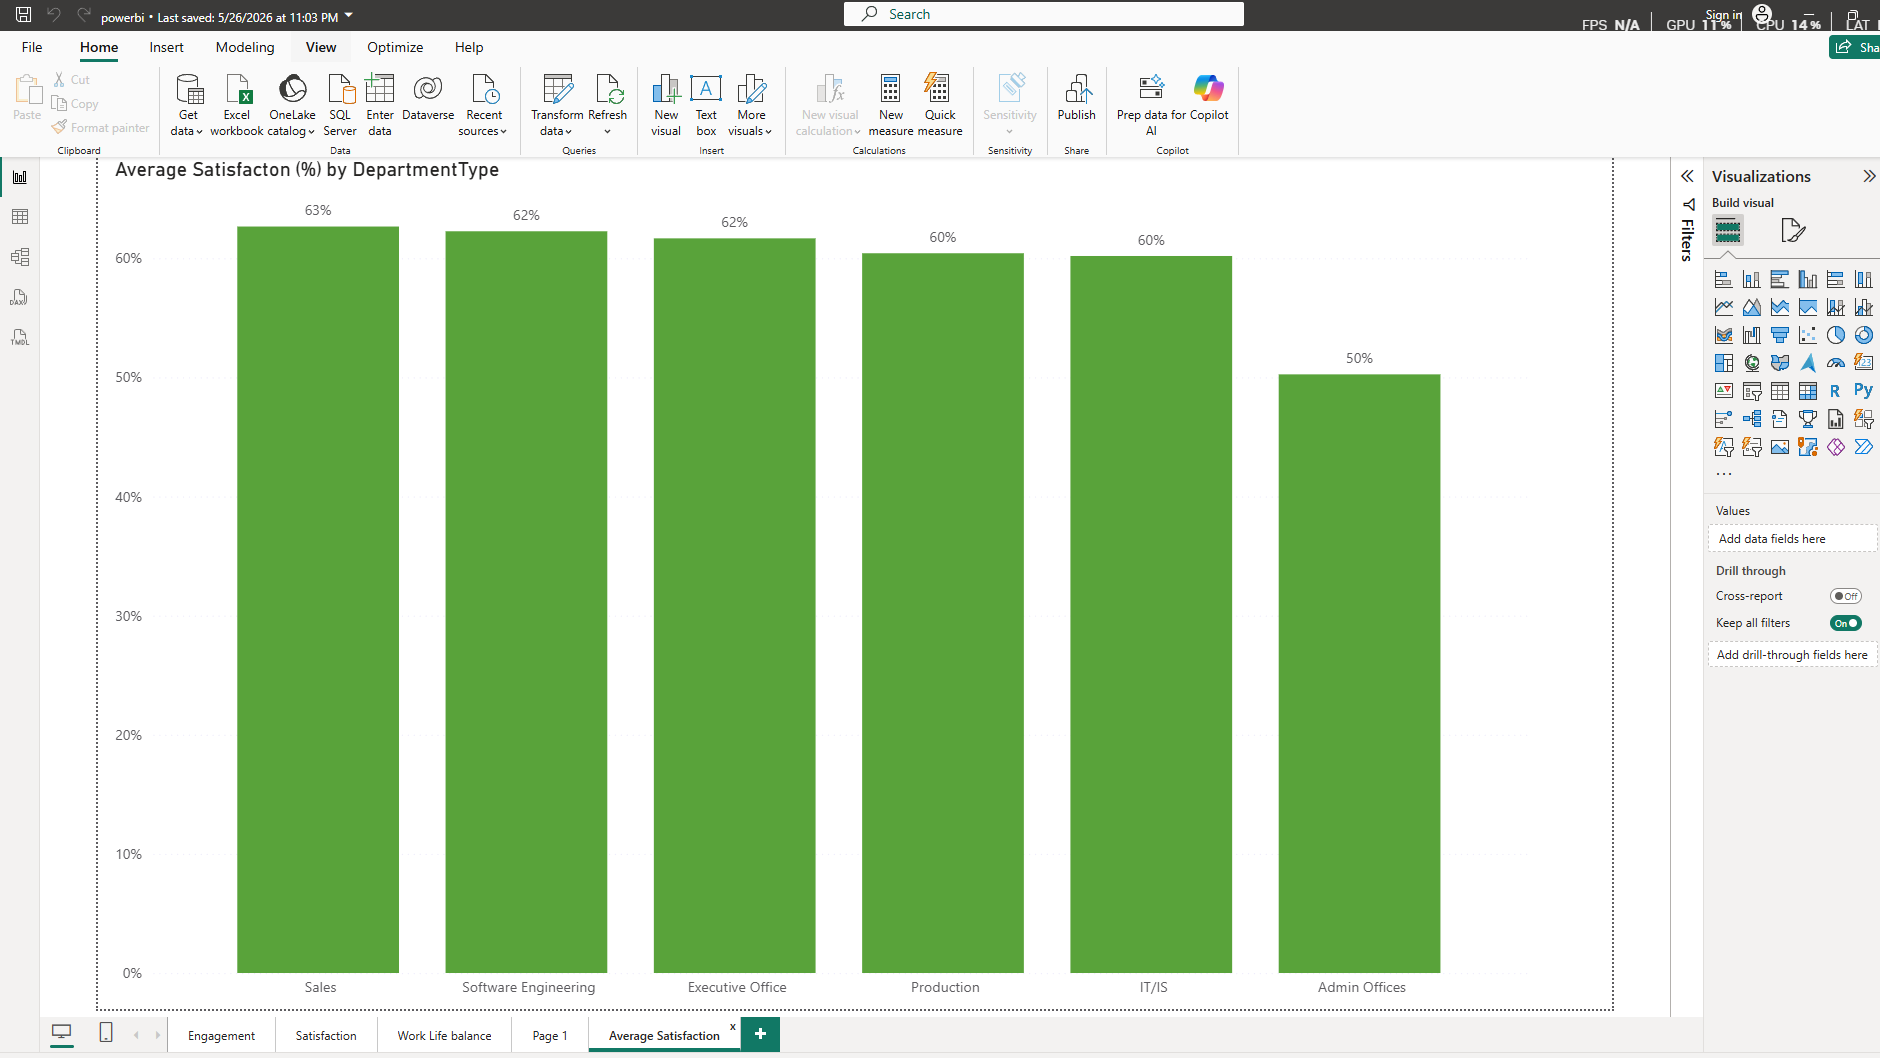

This screenshot's page, from the dashboard's own definition file:
{"tool":"powerbi","page":{"name":"Average Satisfaction","canvas":[1280,720],"ordinal":4},"visuals":[{"type":"clusteredColumnChart","title":"Average Satisfacton (%) by DepartmentType","fields":{"Category":["employee_data.DepartmentType"],"Y":["employee_engagement_survey_data.%Average Satisfacton"]},"box":[9.5,0,1204.7,719.6],"z":0}]}

Visuals, with their boxes on the page's 1280x720 design canvas (x1, y1, x2, y2). These are canvas units, not pixel positions in the 1880x1058 screenshot, which may show the page scaled, cropped or inside an application window:
"Average Satisfacton (%) by DepartmentType" clusteredColumnChart: box(10, 0, 1214, 720)
